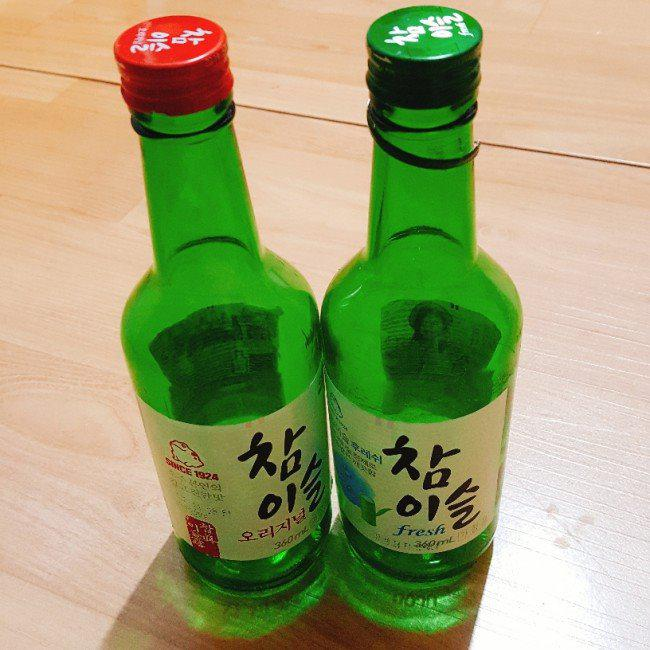soju: (98, 3, 531, 606)
